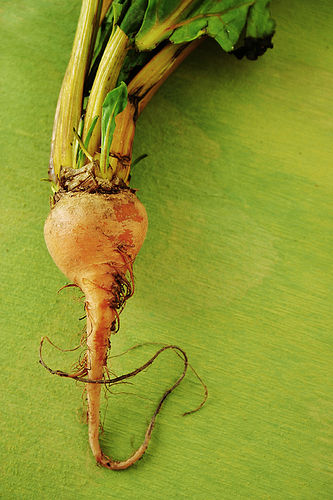turnip: (35, 1, 277, 472)
